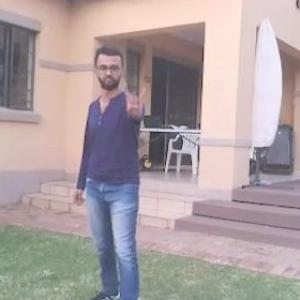takeoff-hand: (123, 73, 151, 119)
